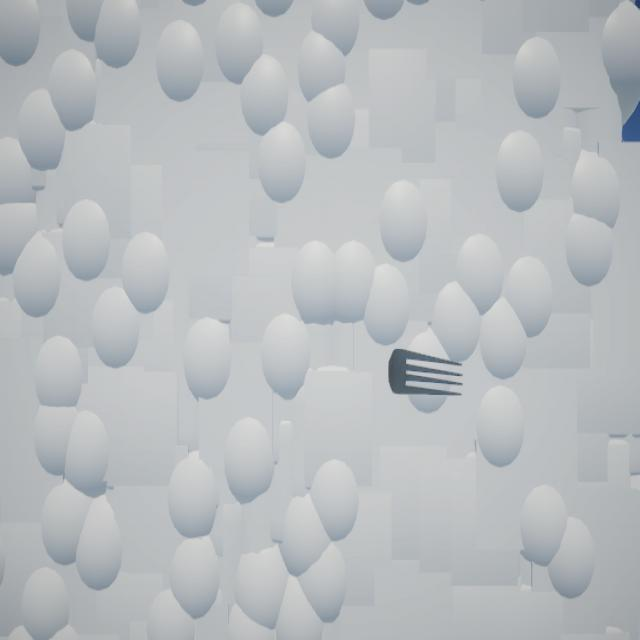top_folk: (389, 350, 464, 397)
